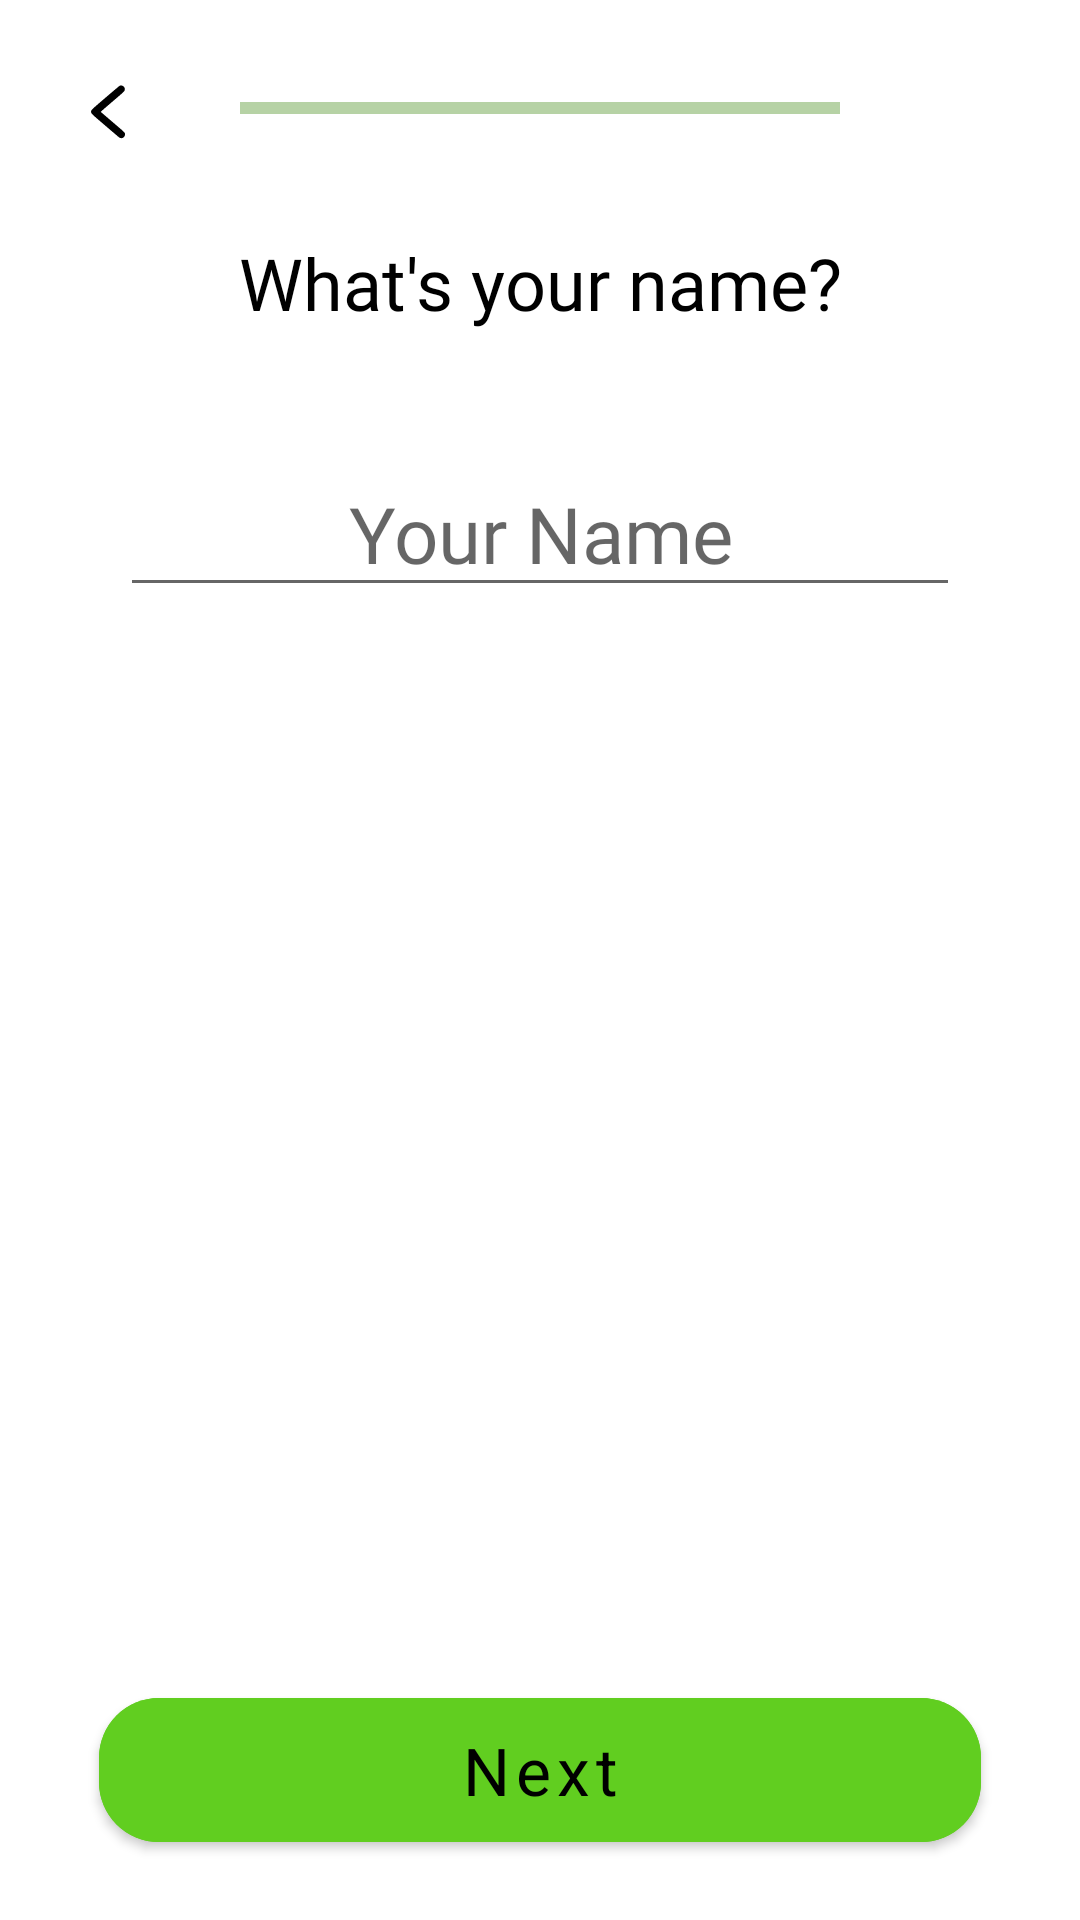

Point at icon controls on the screen. Image size 1080w x 1920h, points as (x,y).
arrow back: (108,112)
